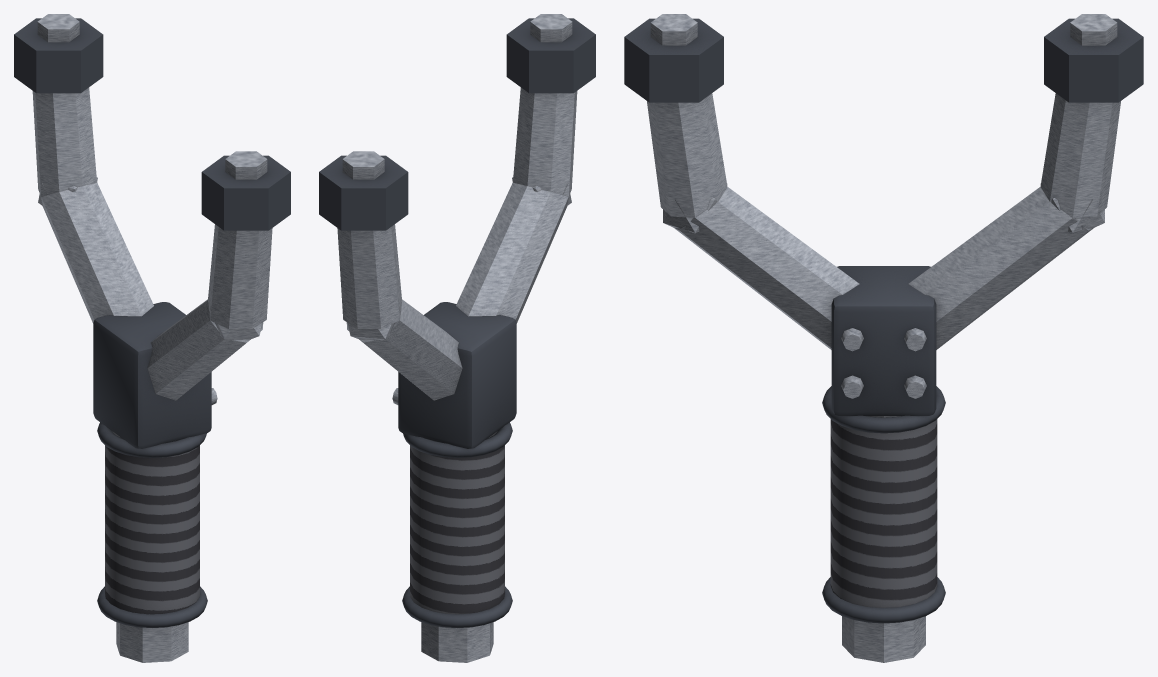
Rendered from Iron Slingshot.fbx.
The picture shows the model from 3 angles, left to right: view 1: azimuth 30°, elevation 25°; view 2: azimuth 150°, elevation 25°; view 3: azimuth 270°, elevation 25°; orthographic projection. The views are drawn at different scales.
Parts seen in each view (by area): view 1: Iron Slingshot; view 2: Iron Slingshot; view 3: Iron Slingshot.
Boxes of the visible parts, left/top/right/bottom form: Iron Slingshot: left=14, top=14, right=290, bottom=662; Iron Slingshot: left=319, top=14, right=595, bottom=662; Iron Slingshot: left=624, top=14, right=1143, bottom=662.
Bounding box in the file's own units: 2.36 × 13.1 × 9.9.
Materials: 1 (1 with a texture image).
